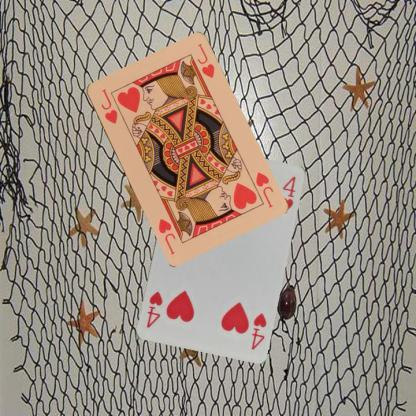4h: (249, 310, 268, 350)
Jh: (252, 169, 274, 209), (99, 86, 119, 125)
